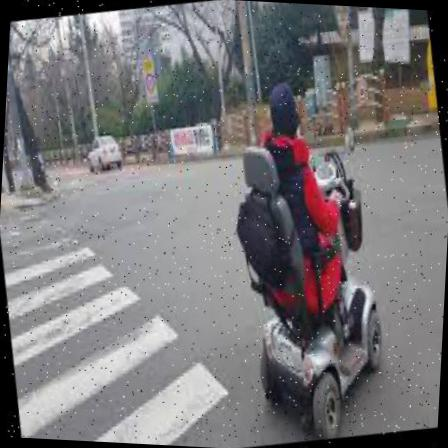wheel: (213, 71, 409, 447)
